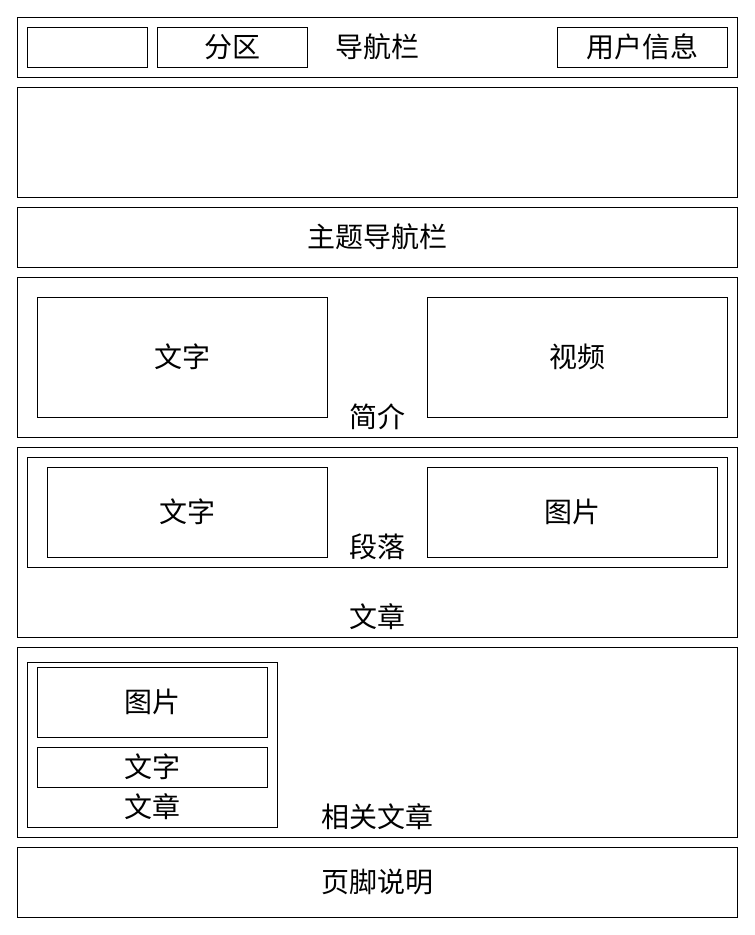
The diagram is 755 pixels wide and 935 high, and some of its shapes have lost their labels. The shapes that lost their labels are listed below. From the top down, each one's centre as x and y in pixels, then its label:
At point (87, 47): "logo".
At point (377, 142): "主题图".
